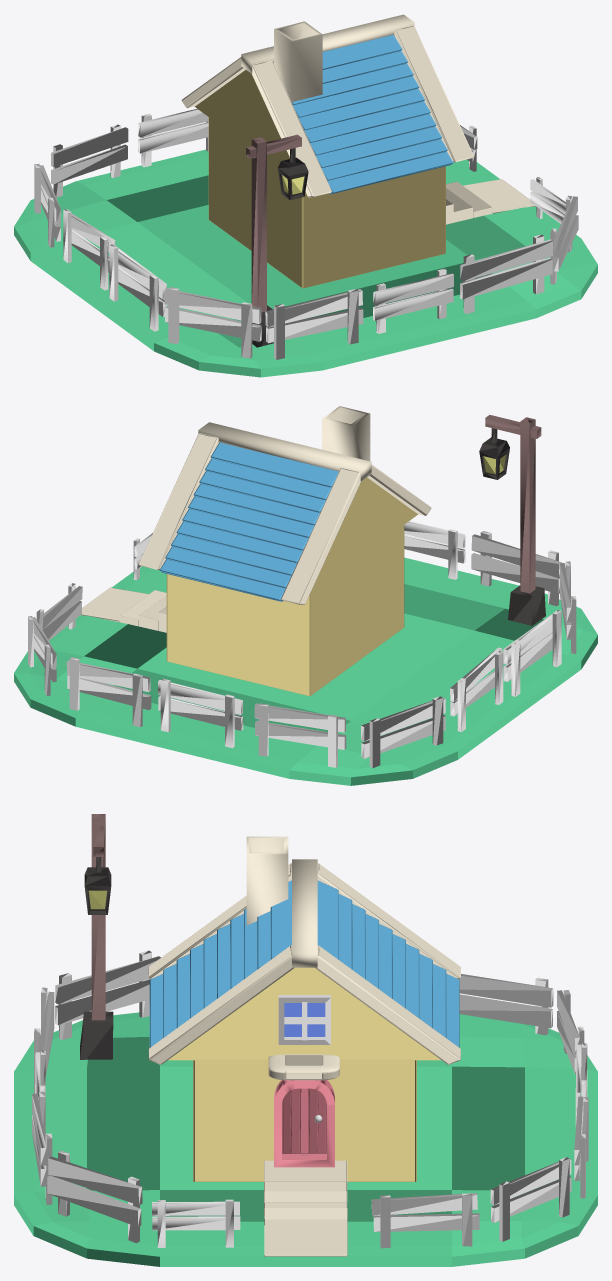
File: house.glb
3 renders of one model, top to bottom at view 1: azimuth 30°, elevation 25°; view 2: azimuth 150°, elevation 25°; view 3: azimuth 270°, elevation 25°, orthographic. The views are drawn at different scales.
Parts seen in each view (by area): view 1: Cube.005; view 2: Cube.005; view 3: Cube.005.
Boxes of the visible parts, x1=… form: Cube.005: x1=14, y1=14, x2=597, y2=377; Cube.005: x1=14, y1=406, x2=597, y2=785; Cube.005: x1=14, y1=814, x2=597, y2=1266.
Size of the model in its own units: 17.64 by 9.64 by 17.64.
